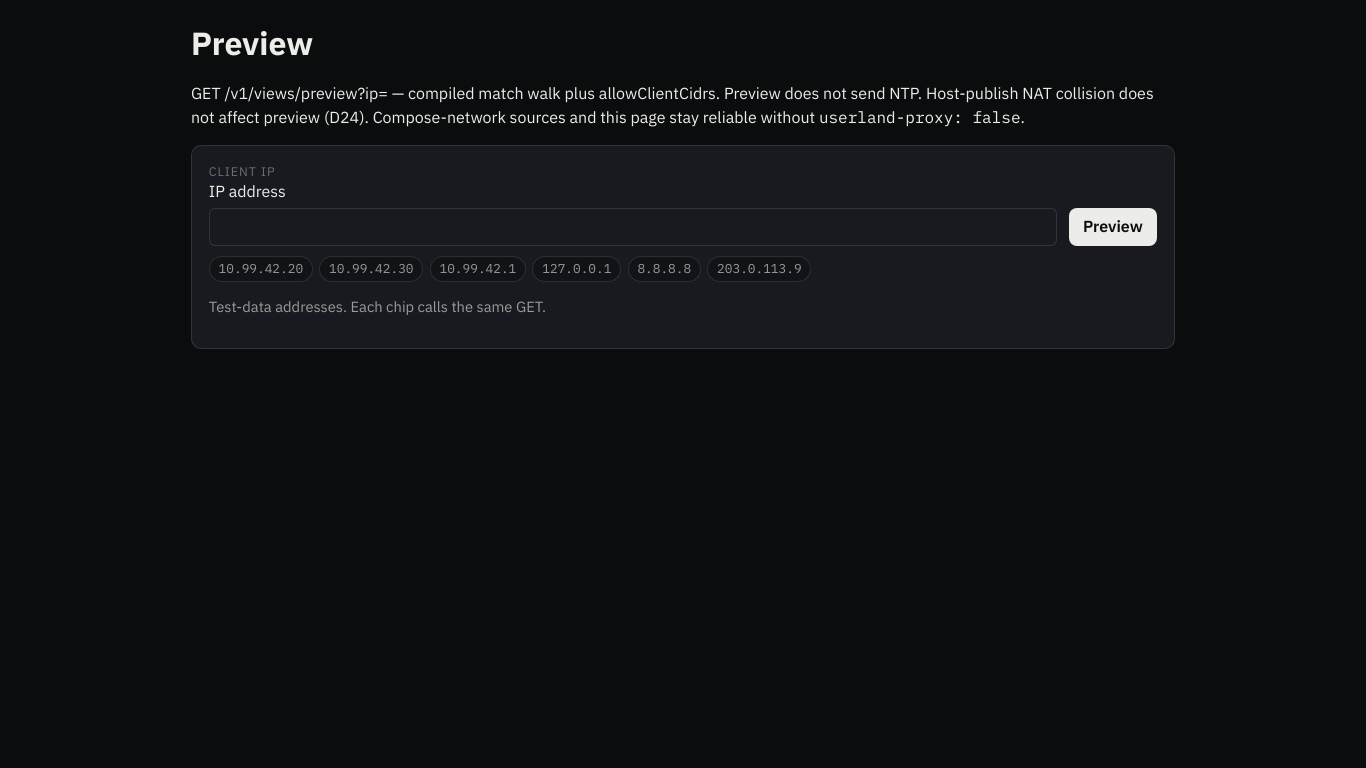
Scenario: PreviewPage › chip clicks the same GET preview
Click the button "10.99.42.20": (261,269) [209, 256, 313, 282]
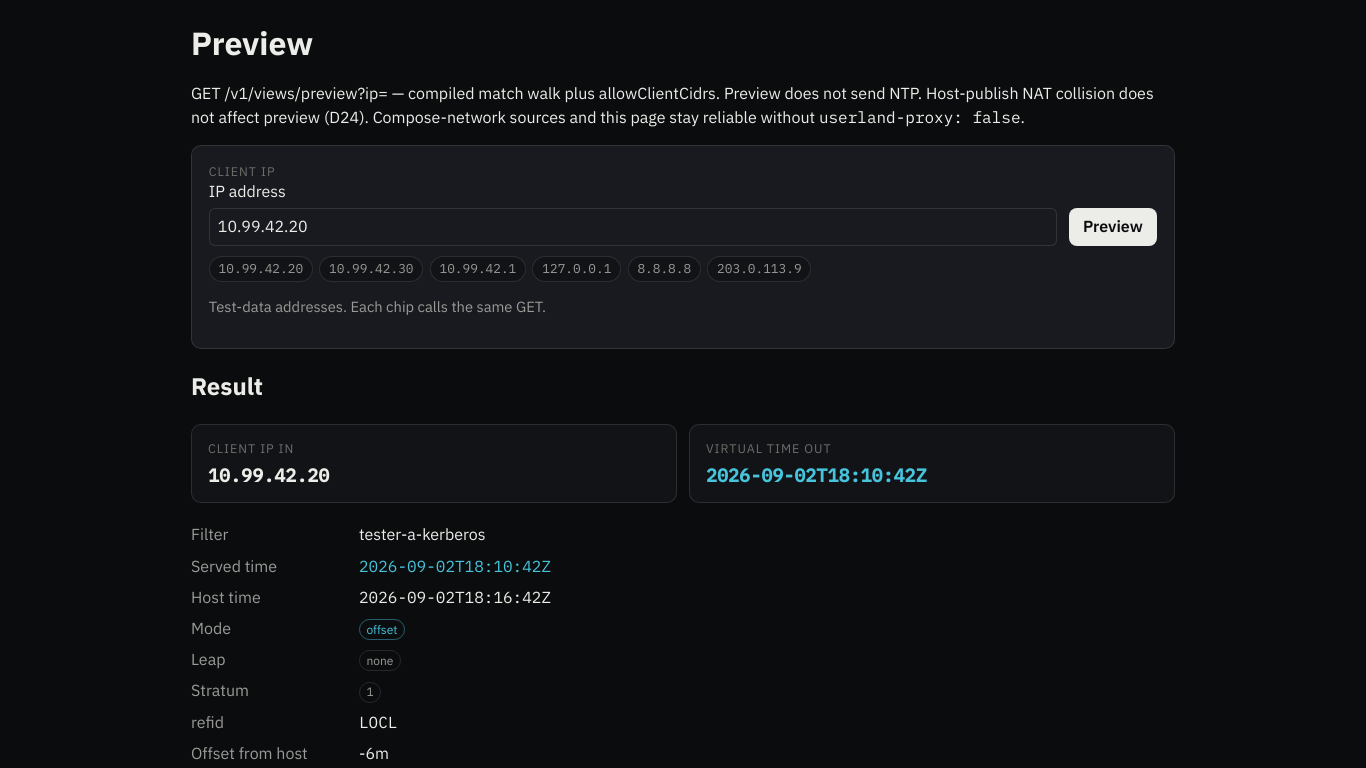
Now the text "tester-a-kerberos" is shown, box [359, 524, 486, 544]
